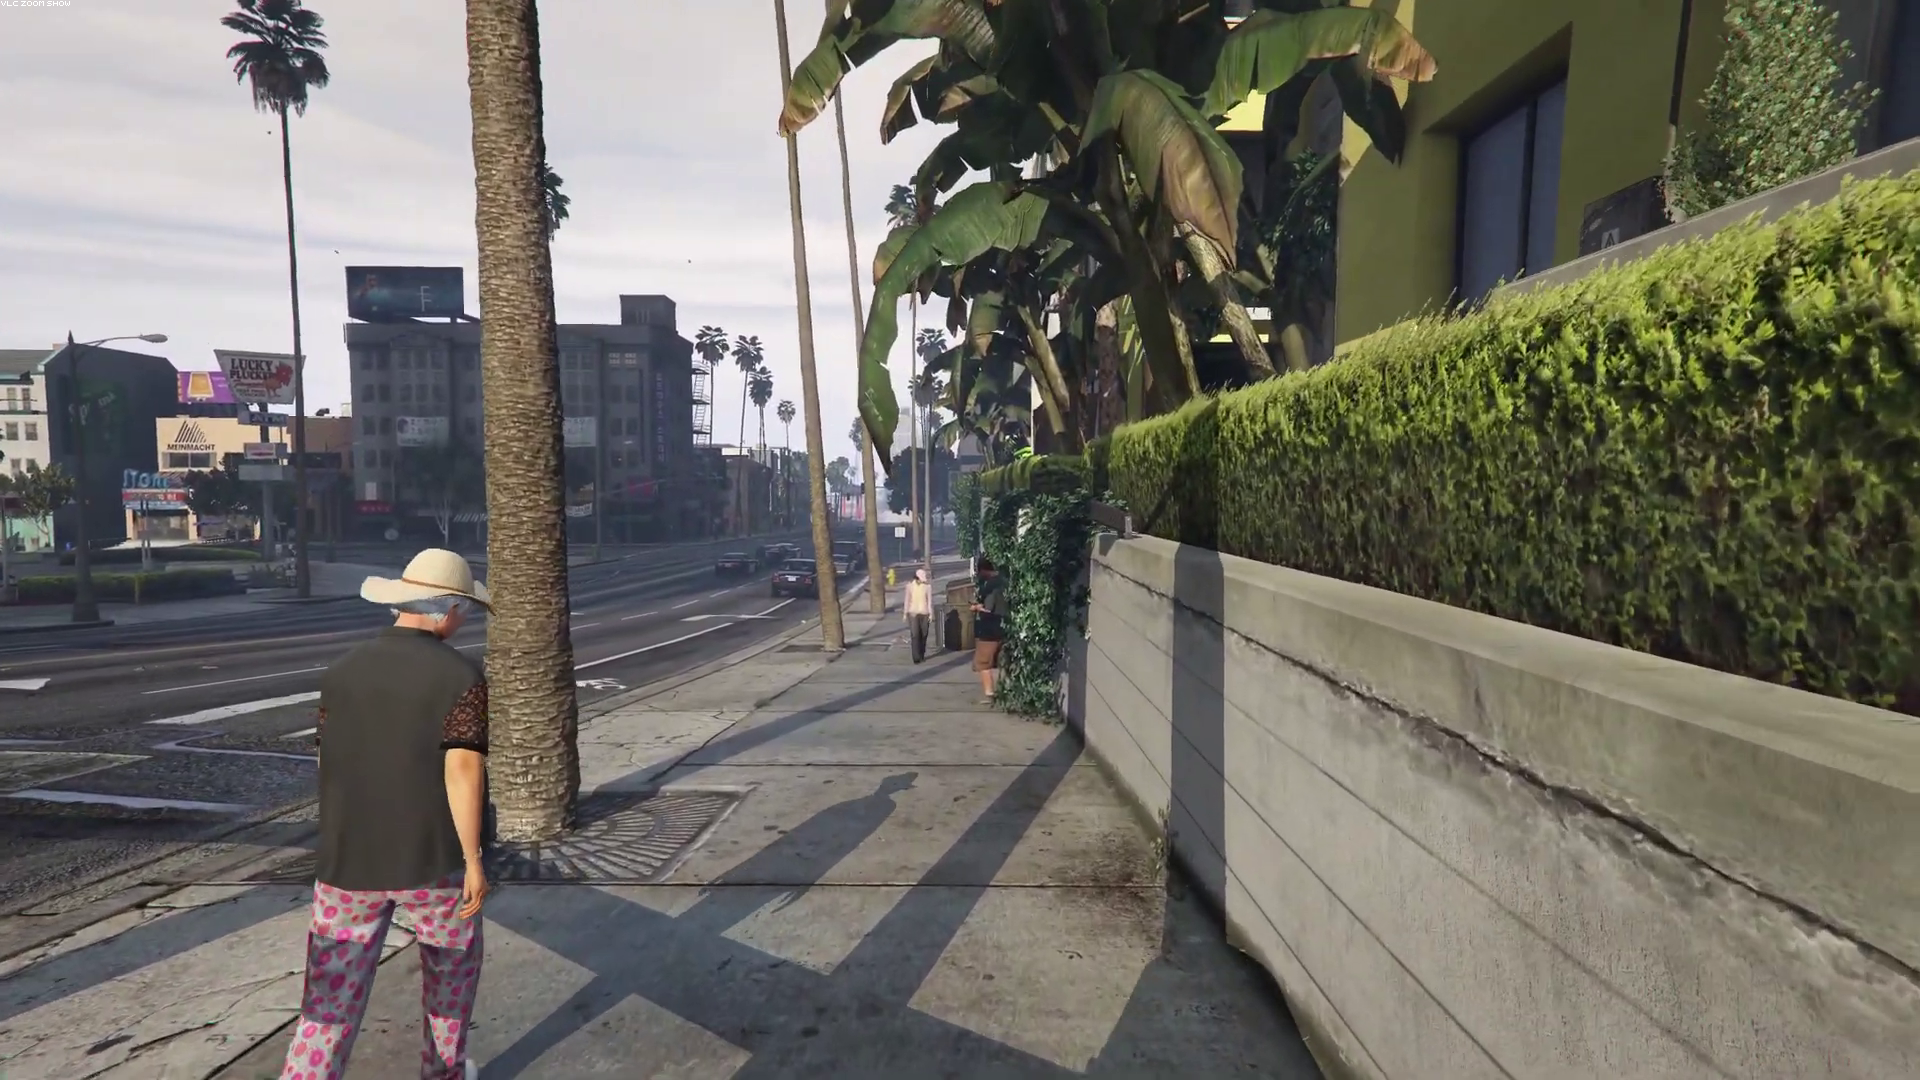car: (771, 558, 819, 598), (716, 553, 756, 574), (765, 543, 801, 561), (830, 554, 856, 576)
person: (278, 546, 501, 1080), (971, 560, 1012, 707), (903, 568, 935, 665)
